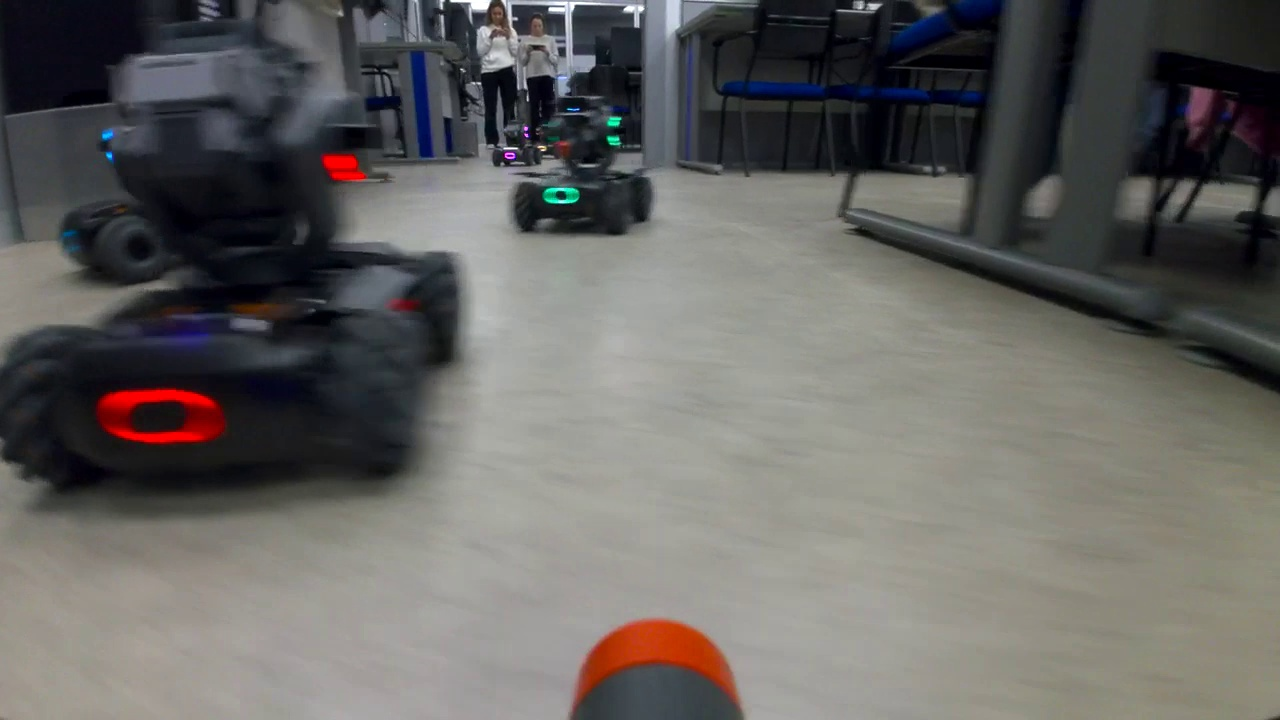robot: (6, 23, 465, 493), (511, 95, 655, 236), (492, 122, 543, 169)
